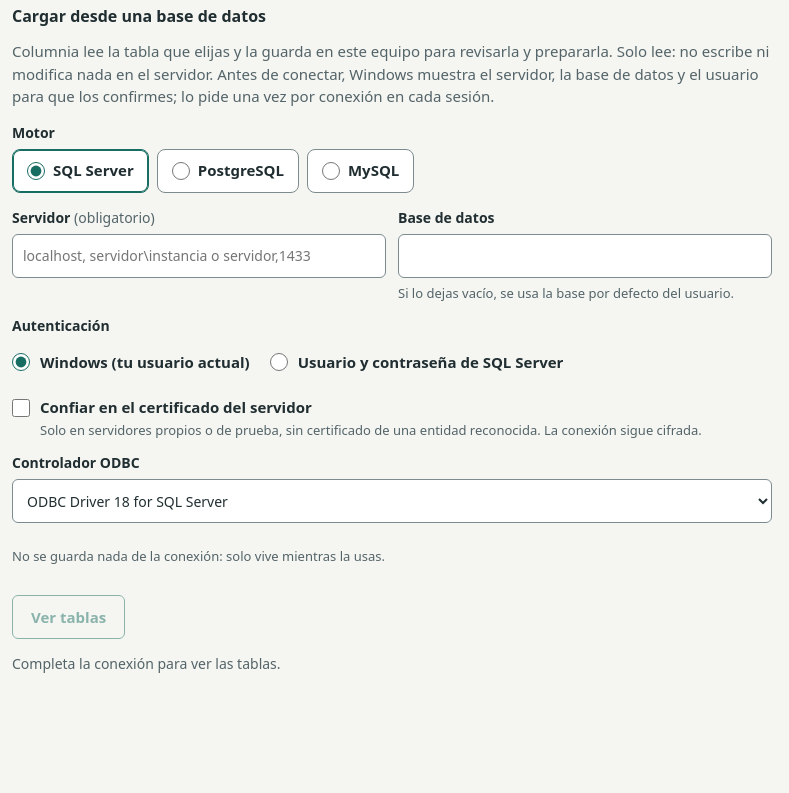
DatabaseImportPanel › pide servidor y autenticación en lugar de una cadena ODBC, con el controlador más nuevo
The width and height of the screenshot is (789, 793).
Expected: the button "Ver tablas" is disabled, [12,594,125,639]
Expected: the dropdown labelled "Controlador ODBC" shows "ODBC Driver 18 for SQL Server", [12,479,772,523]
Type "localhost" into the field labelled "Servidor" at (199, 256), box [12,234,386,278]
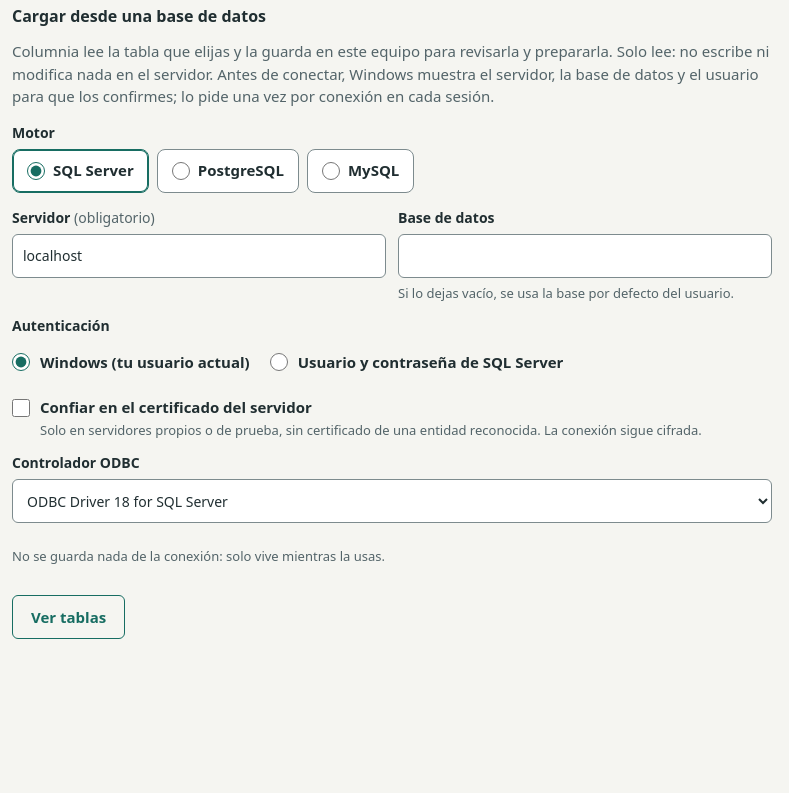
Type "VentasRetail" into the field labelled "Base de datos" at (585, 256), box [398,234,772,278]
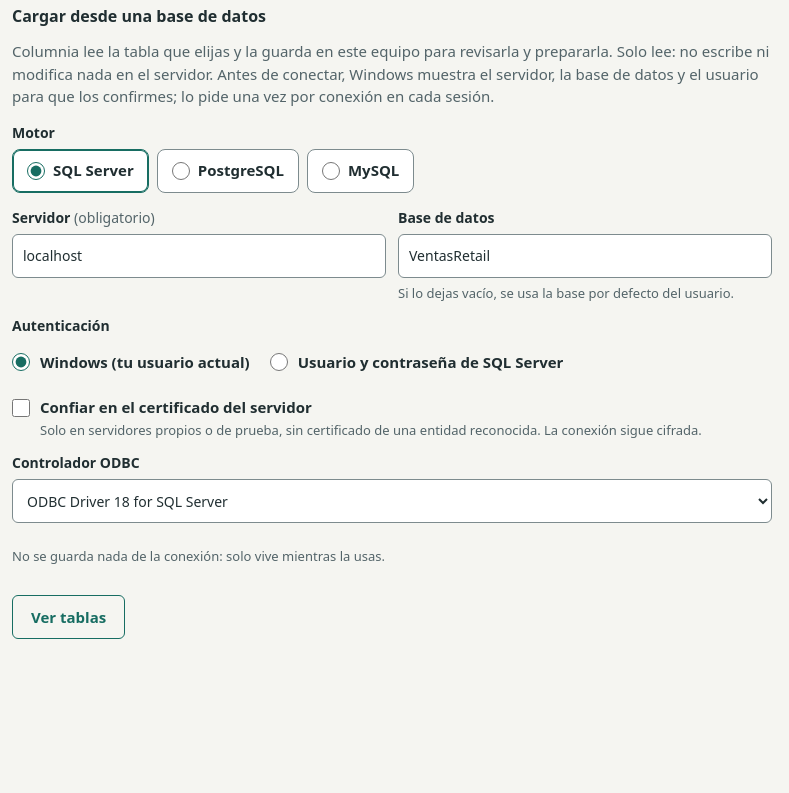
Expected: the radio button labelled "Windows (tu usuario actual)" is checked, [12,353,30,371]
Expected: the button "Ver tablas" is enabled, [12,594,125,639]
Click the radio button labelled "Usuario y contraseña de SQL Server" at (279, 362), box [270,353,288,371]
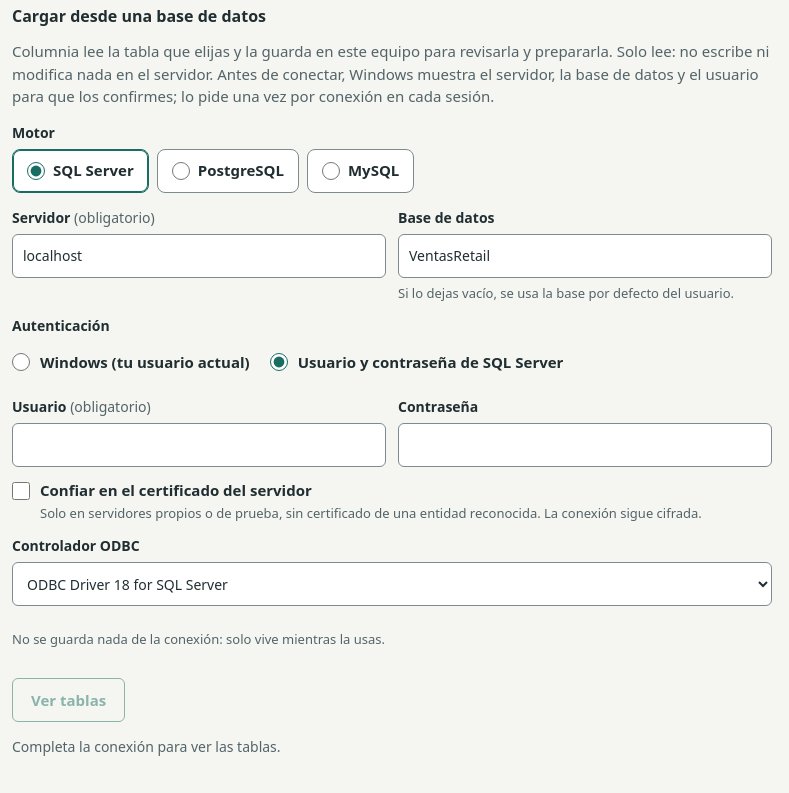
Expected: the text "Indica el usuario de SQL Server." is not shown
Expected: the button "Ver tablas" is disabled, [12,678,125,722]
Leave the field labelled "Usuario", box [12,423,386,467]
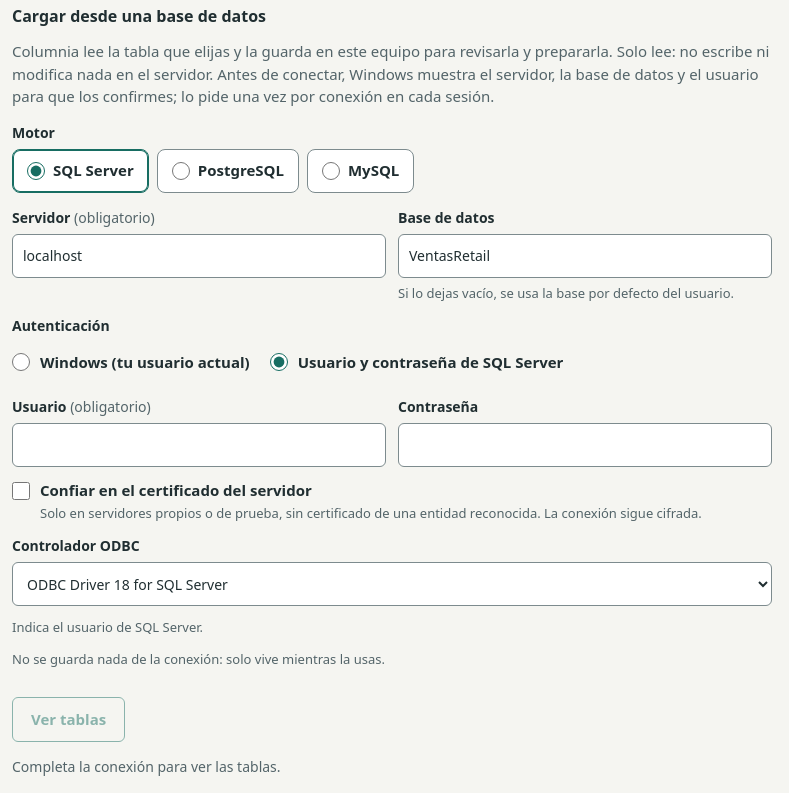
Expected: the text "Indica el usuario de SQL Server." is shown, [12,618,203,636]
